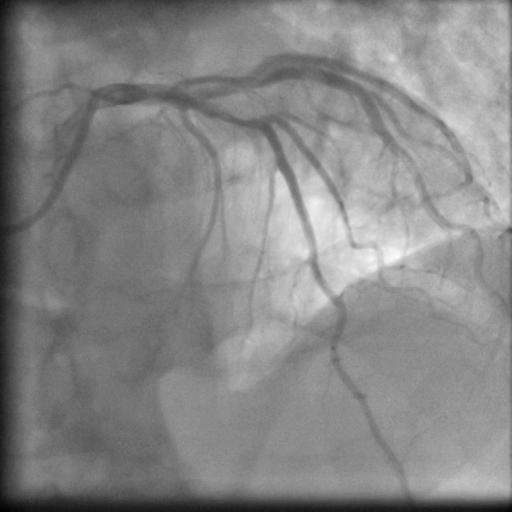Stenosis: (199, 98, 261, 125)
